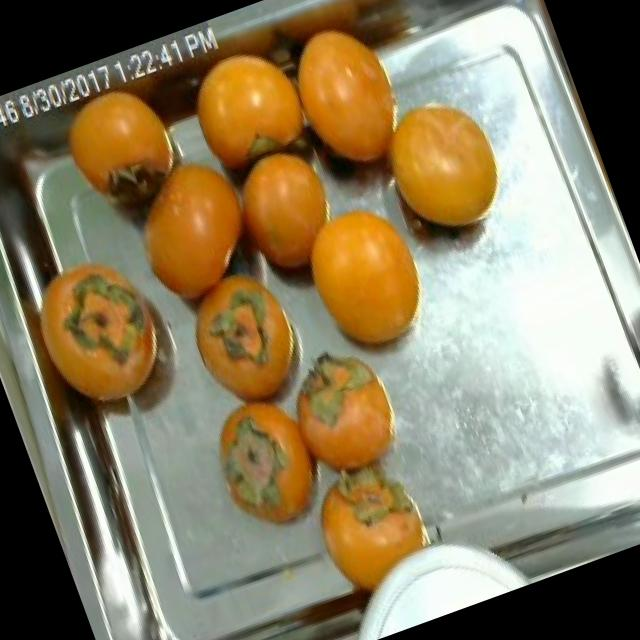Fruit: (12, 222, 203, 443), (276, 175, 448, 385), (98, 131, 274, 332), (362, 66, 530, 261), (158, 250, 328, 441), (36, 66, 210, 245), (266, 320, 427, 512), (266, 0, 427, 191), (188, 374, 350, 560), (169, 23, 332, 206), (287, 437, 458, 610), (614, 332, 640, 490)
